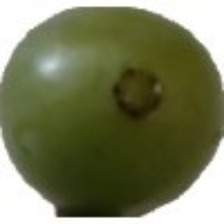grapes: (0, 49, 199, 203)
